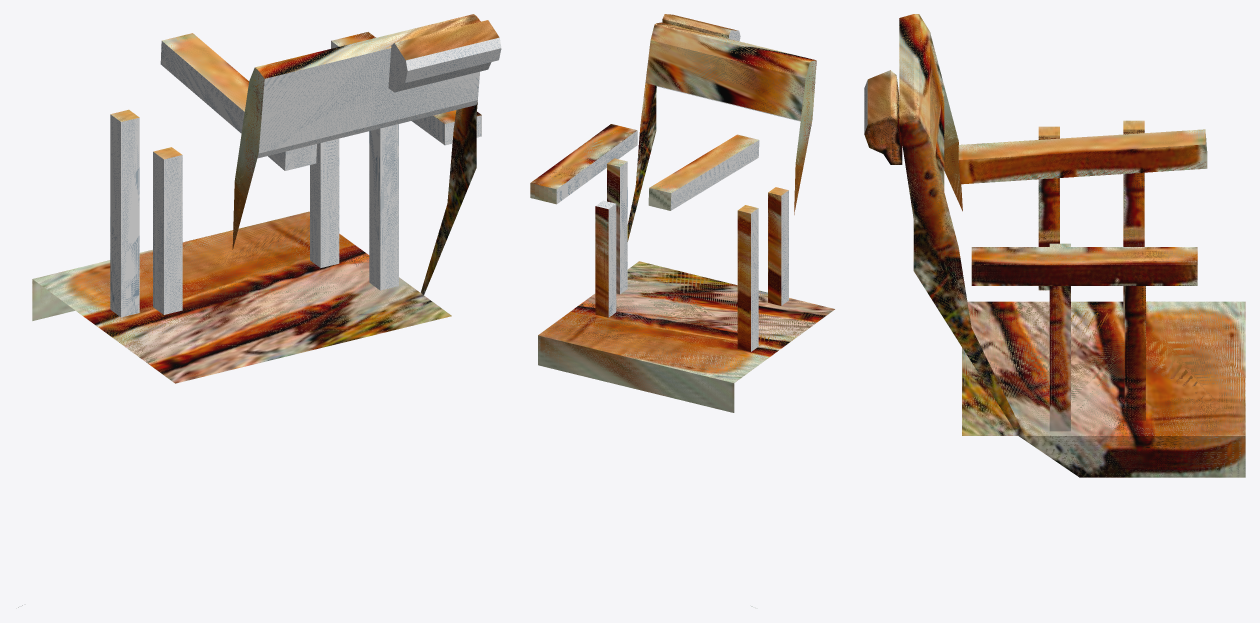
File: Floating Chair.fbx
3 renders of one model, left to right at view 1: azimuth 30°, elevation 25°; view 2: azimuth 150°, elevation 25°; view 3: azimuth 270°, elevation 25°, orthographic. The views are drawn at different scales.
Visible parts, largest first — view 1: Model; view 2: Model; view 3: Model.
Part boxes in pixels (x1,y1,x2,y2): Model: [18, 14, 501, 607]; Model: [530, 14, 834, 606]; Model: [864, 14, 1245, 477].
Size of the model in its own units: 50.99 by 92.5 by 50.3.
